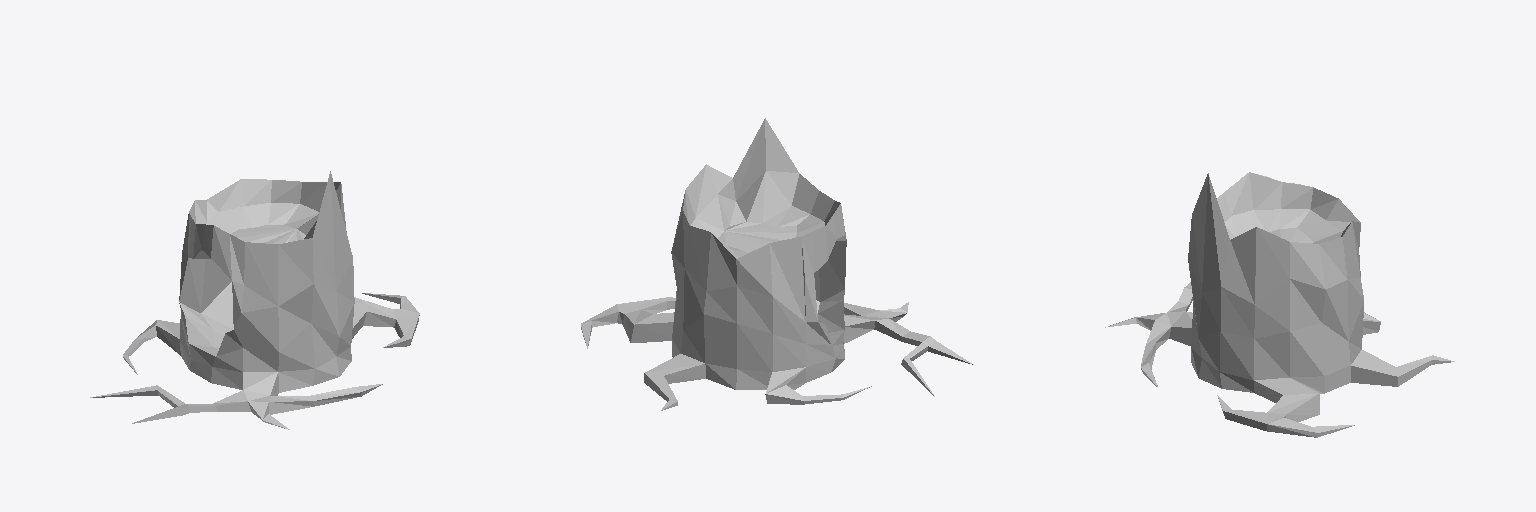
The model's file is dead_tree_stump_1_001.obj.
The picture shows the model from 3 angles: view 1: azimuth 30°, elevation 25°; view 2: azimuth 150°, elevation 25°; view 3: azimuth 270°, elevation 25°; orthographic projection.
Parts seen in each view (by area): view 1: Cylinder; view 2: Cylinder; view 3: Cylinder.
Part boxes in pixels (x1,y1,x2,y2): Cylinder: (90,171,419,429); Cylinder: (581,118,973,410); Cylinder: (1105,172,1454,437).
Bounding box in the file's own units: 4.96 × 2.88 × 4.48.